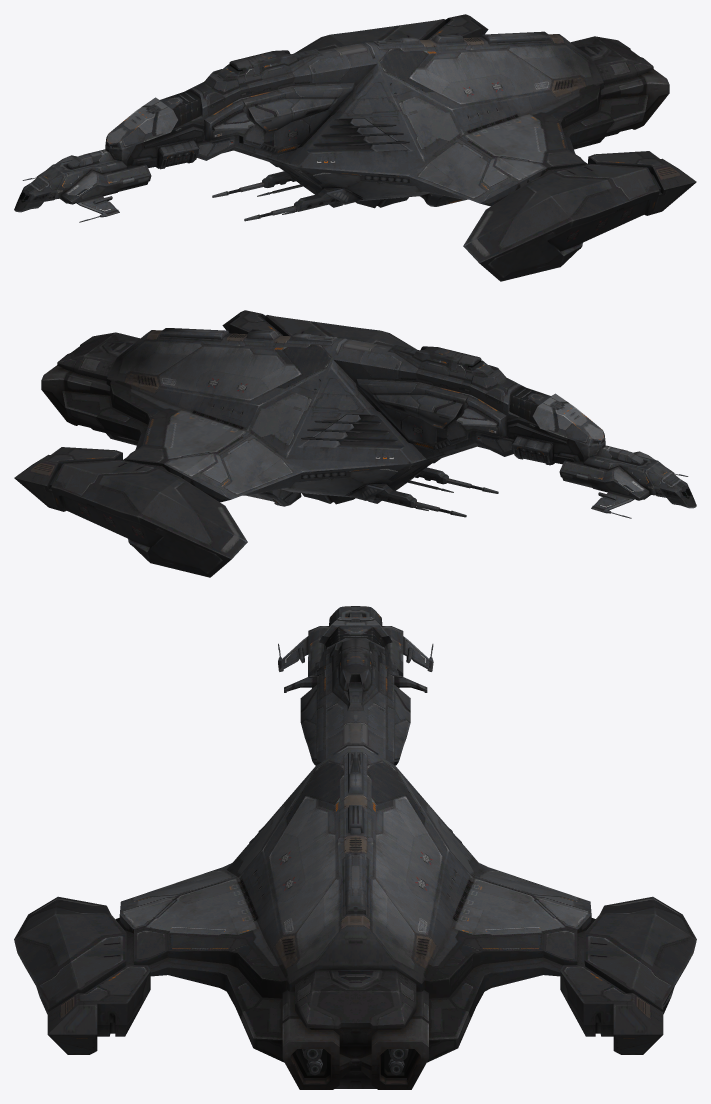
Rendered from Moa.gltf.
3 views of the same model, one above another, from view 1: azimuth 30°, elevation 25°; view 2: azimuth 150°, elevation 25°; view 3: azimuth 270°, elevation 25° (orthographic). The views are drawn at different scales.
Parts seen in each view (by area): view 1: shape; view 2: shape; view 3: shape.
Boxes of the visible parts, left/top/right/bottom form: shape: left=14, top=14, right=696, bottom=281; shape: left=14, top=310, right=696, bottom=577; shape: left=14, top=606, right=696, bottom=1089.
Size of the model in its own units: 8.95 by 2.37 by 6.21.
1 material, 1 textured.
